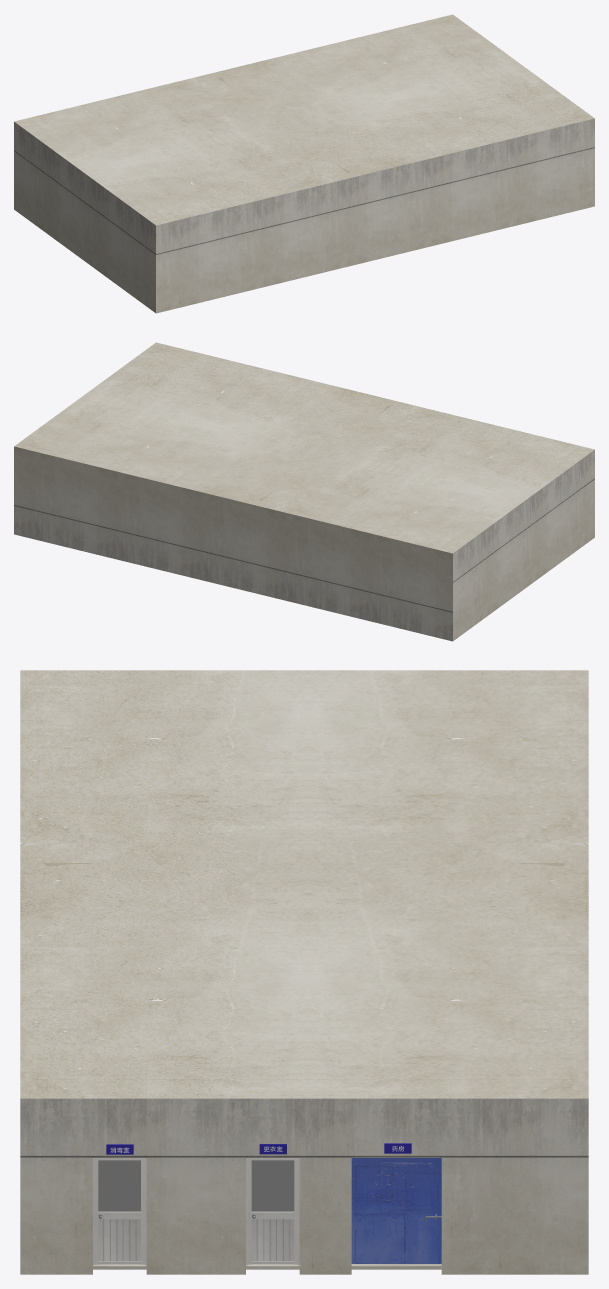
The model's file is xiaofangzi.FBX.
3 renders of one model, top to bottom at view 1: azimuth 30°, elevation 25°; view 2: azimuth 150°, elevation 25°; view 3: azimuth 270°, elevation 25°, orthographic. The views are drawn at different scales.
Visible parts, largest first — view 1: xiaofangzi; view 2: xiaofangzi; view 3: xiaofangzi, xiaofangzi_boli.
Part boxes in pixels (<box>): xiaofangzi: <box>14,14,594,313</box>; xiaofangzi: <box>14,342,594,641</box>; xiaofangzi: <box>20,670,588,1274</box>; xiaofangzi_boli: <box>98,1160,294,1211</box>.
Size of the model in its own units: 2123 by 406 by 1189.
